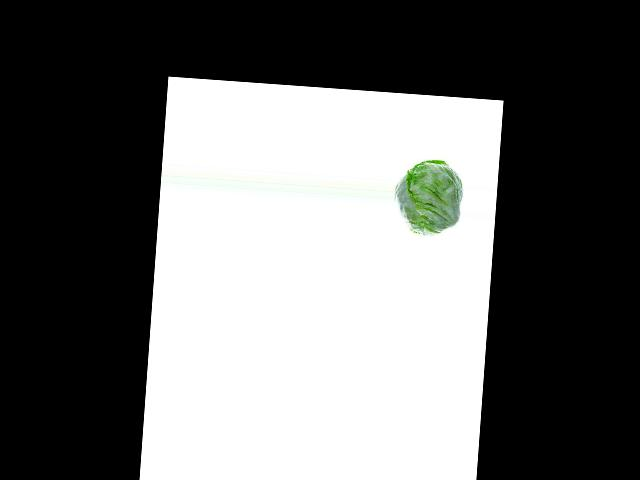lettuce: (393, 158, 461, 236)
